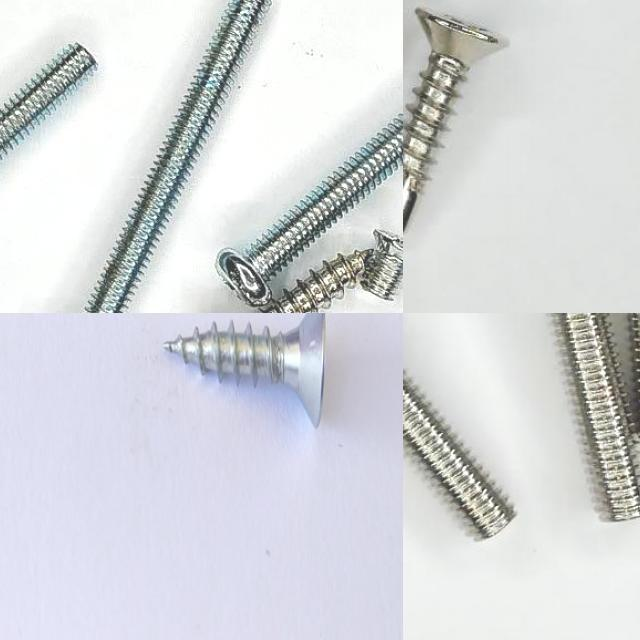Screw: (85, 0, 271, 313), (217, 114, 403, 307), (403, 8, 506, 233), (403, 372, 516, 539), (164, 313, 326, 426), (557, 313, 640, 521), (0, 43, 96, 158), (262, 250, 373, 313), (362, 230, 403, 300)
